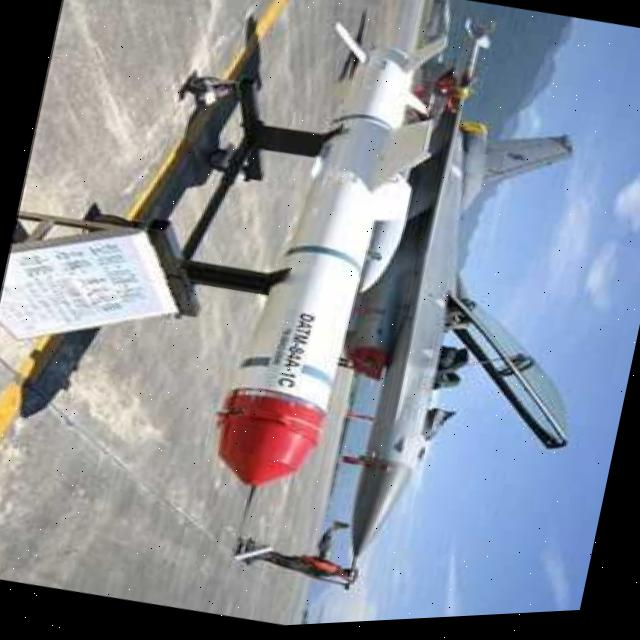missile: (229, 21, 457, 516)
